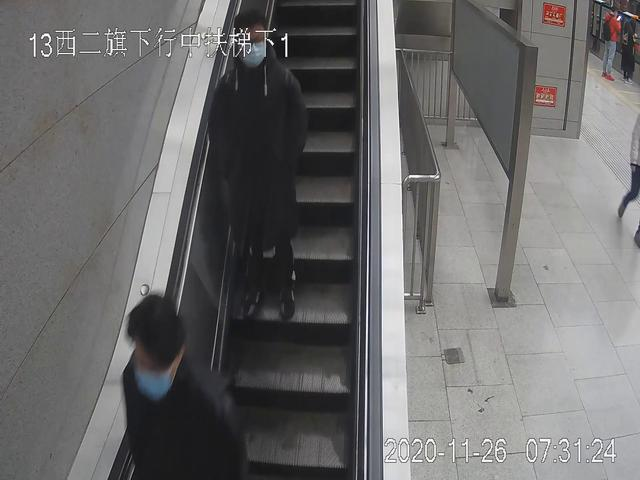person: (208, 13, 307, 320), (122, 293, 248, 480), (599, 6, 621, 79)
